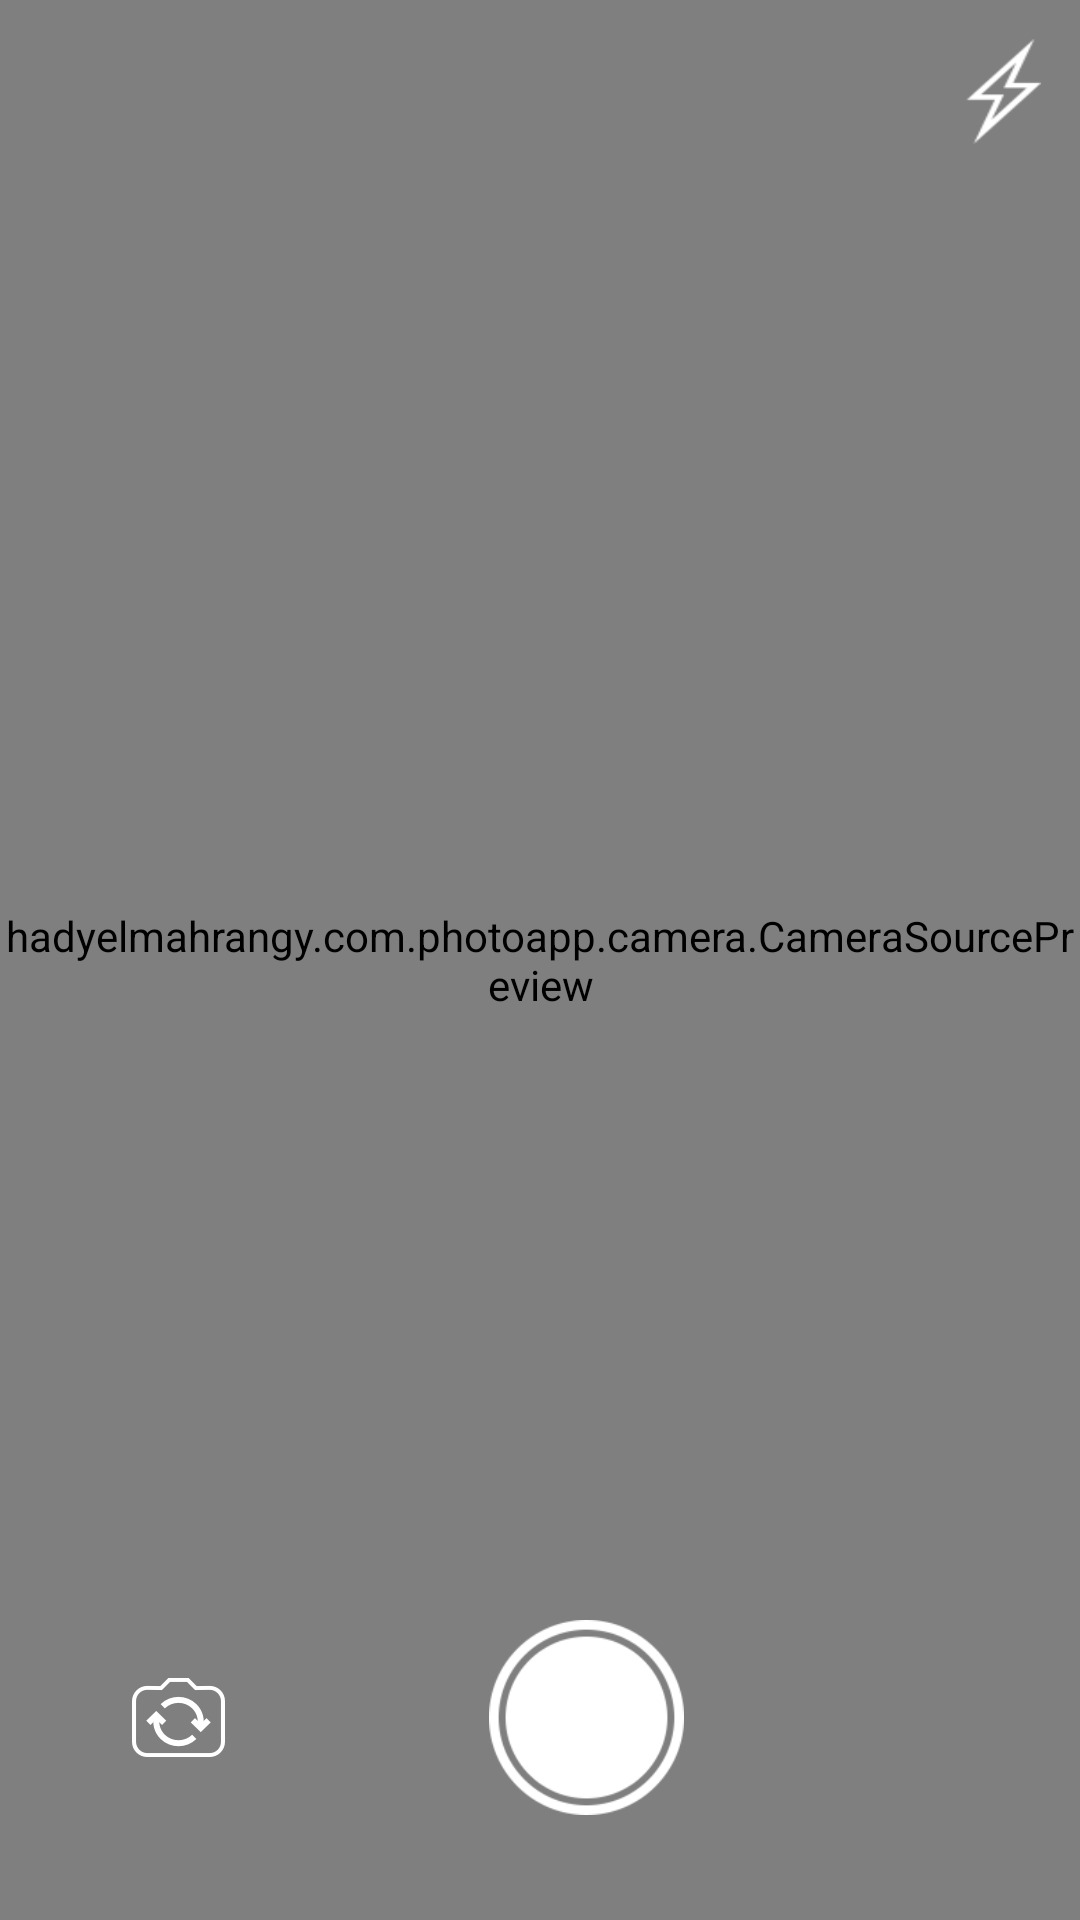

Named icons in this screenshot (1080 × 1920) and their centers, point (x, y):
swap camera: point (178, 1717)
take photo: point (586, 1717)
